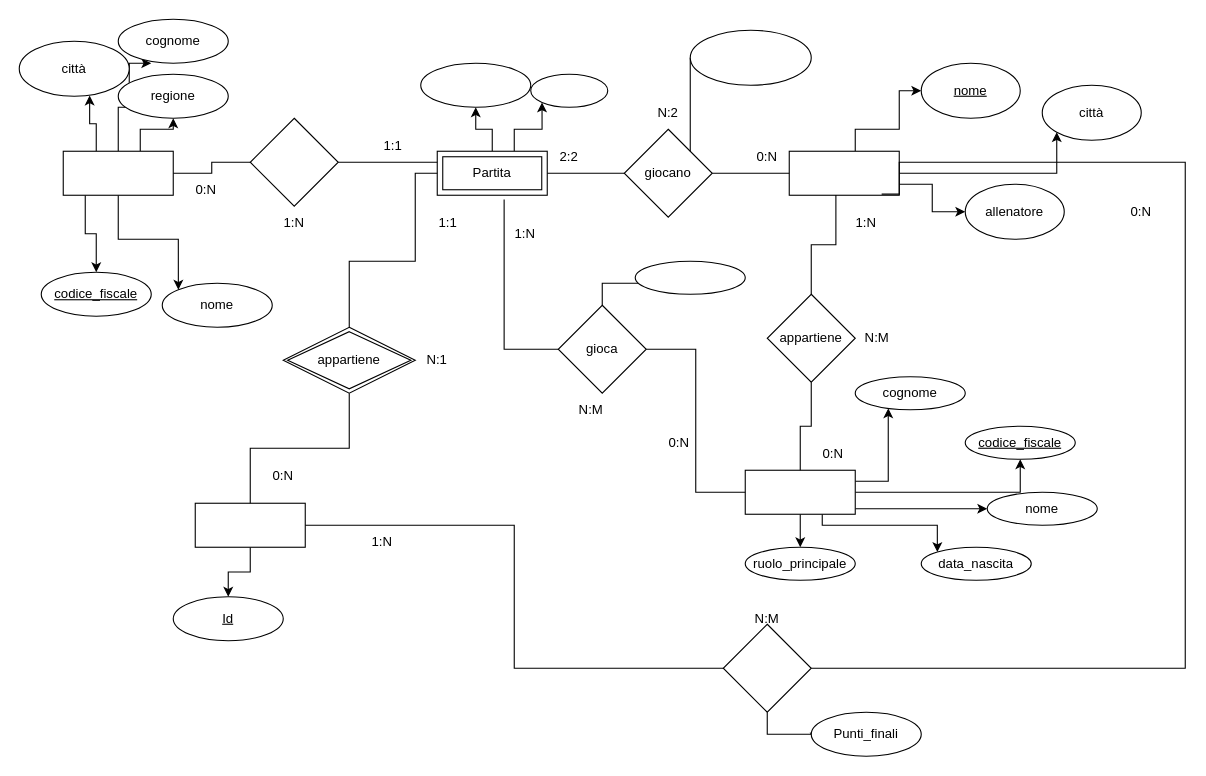
Some shapes in this 1206 by 776 pixel diagram are drawn without their labels. The shapes that lost their labels are listed below. From the top down, each one's centre as x and y in pixels, then its label:
At point (750, 57): "in_casa".
At point (475, 84): "num_progr".
At point (569, 90): "data".
At point (117, 172): "Arbitro".
At point (293, 161): "controlla".
At point (843, 172): "Squadra".
At point (689, 277): "ruolo".
At point (799, 491): "Giocatore".
At point (249, 524): "Giornata".
At point (766, 667): "ha".
